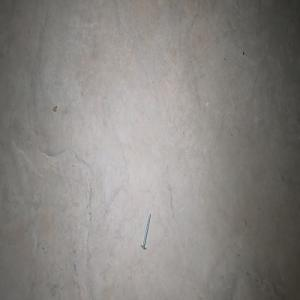Bolt: (140, 212, 151, 249)
